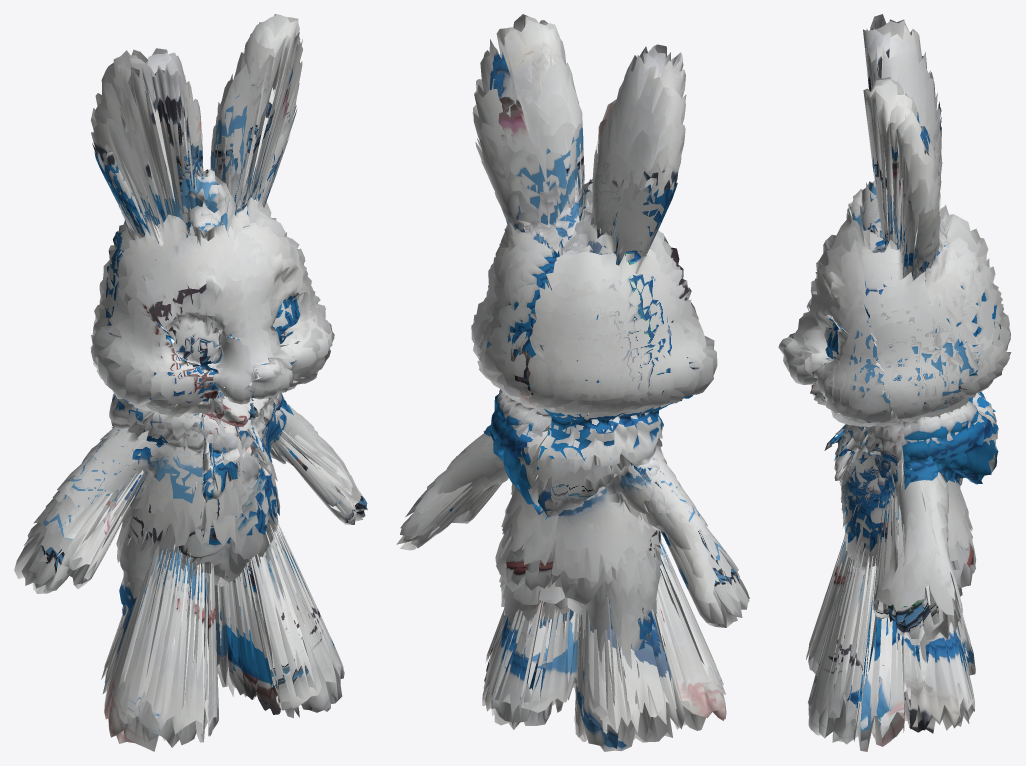
The model's file is type2learn-bunny-web.glb.
3 views of the same model, side by side, from view 1: azimuth 30°, elevation 25°; view 2: azimuth 150°, elevation 25°; view 3: azimuth 270°, elevation 25° (orthographic). The views are drawn at different scales.
Bounding box in the file's own units: 0.9918 × 1.91 × 0.6193.
Materials: 1 (1 with a texture image).
